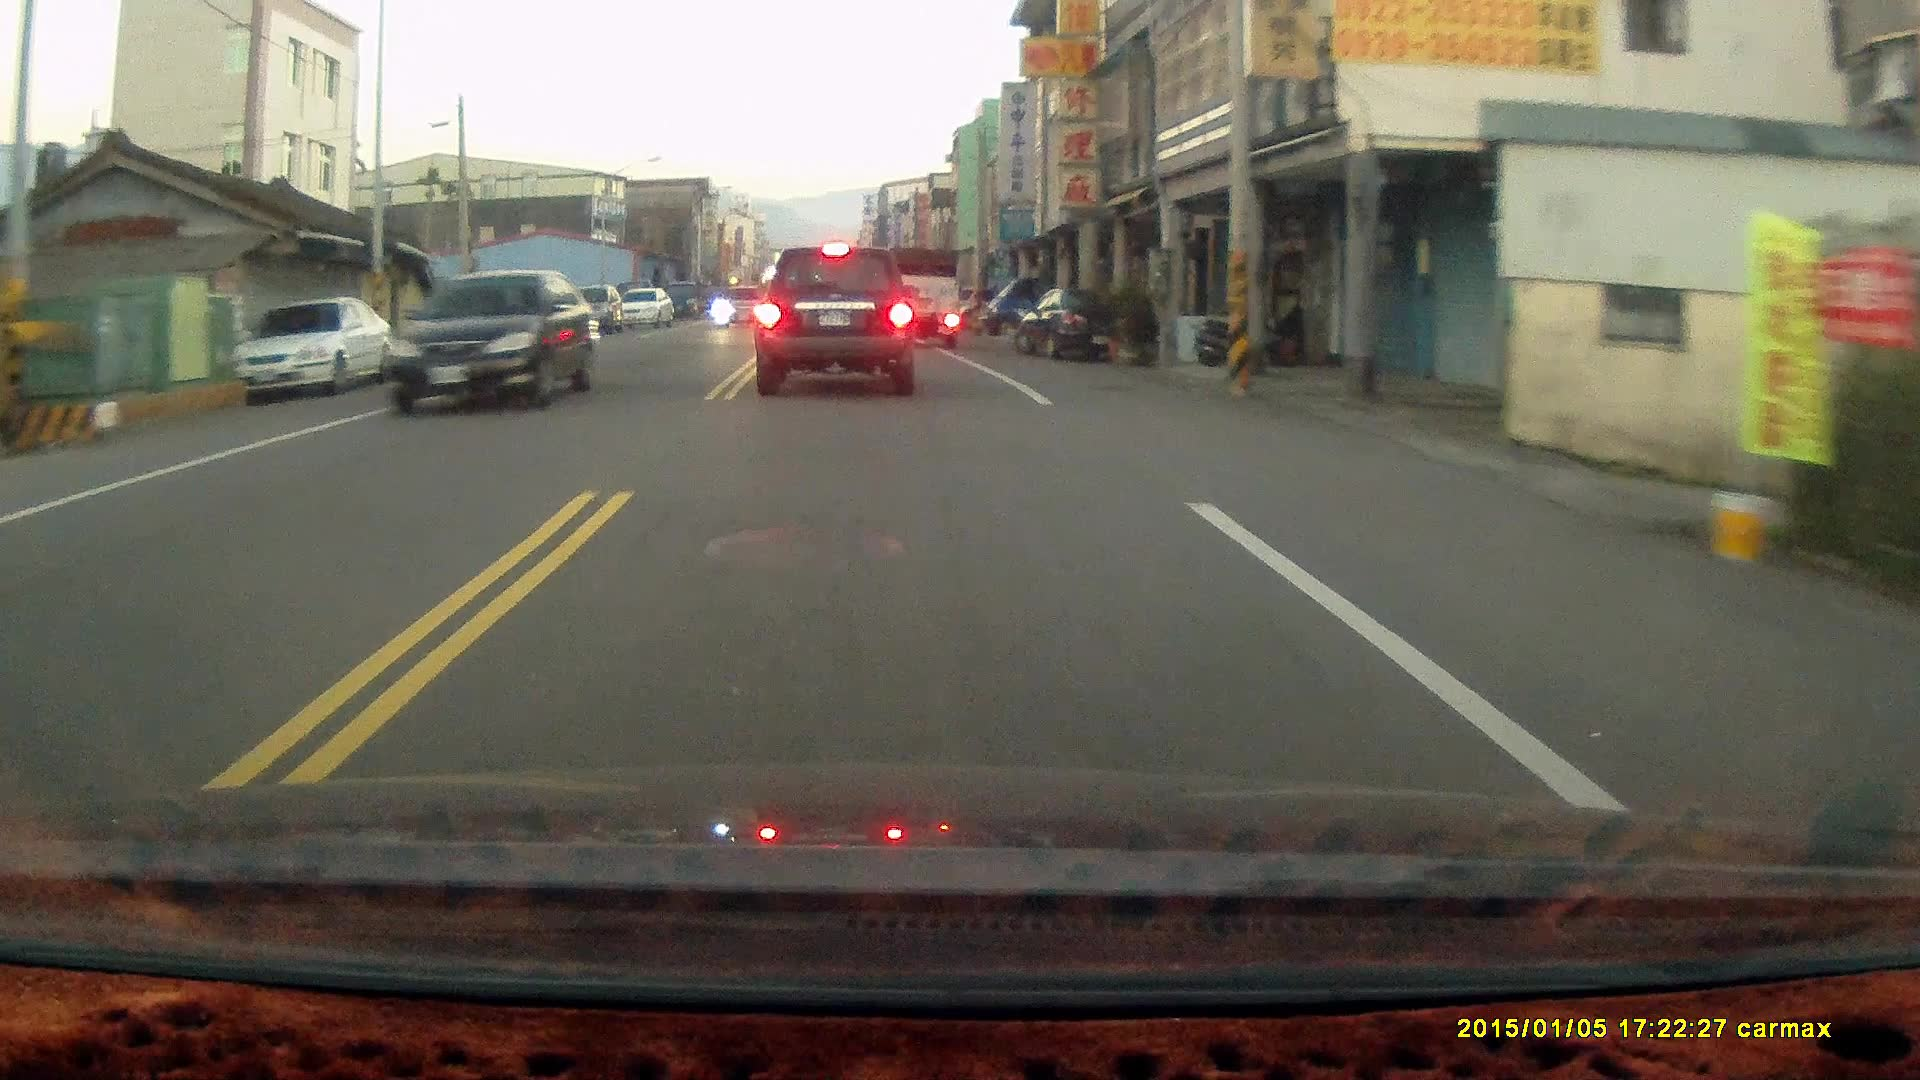vehicle: (376, 272, 595, 419), (753, 247, 918, 404), (229, 297, 396, 400), (1021, 293, 1143, 369), (884, 255, 965, 359), (709, 285, 778, 331), (615, 287, 675, 332)
